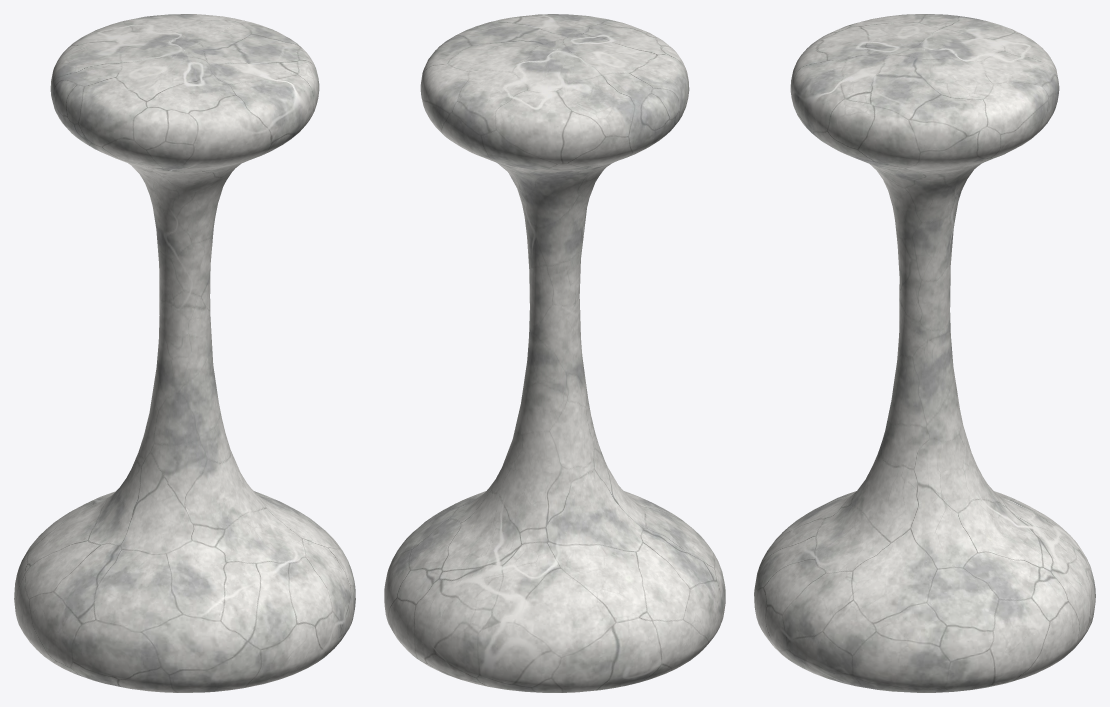
Rendered from rook-white.glb.
3 renders of one model, left to right at view 1: azimuth 30°, elevation 25°; view 2: azimuth 150°, elevation 25°; view 3: azimuth 270°, elevation 25°, orthographic.
Visible parts, largest first — view 1: Serpentina_rook_white; view 2: Serpentina_rook_white; view 3: Serpentina_rook_white.
Boxes of the visible parts, <box> form: Serpentina_rook_white: <box>14,14,355,692</box>; Serpentina_rook_white: <box>384,14,725,692</box>; Serpentina_rook_white: <box>754,14,1095,692</box>.
Size of the model in its own units: 0.6536 by 1.22 by 0.6539.
Materials: 1 (1 with a texture image).
